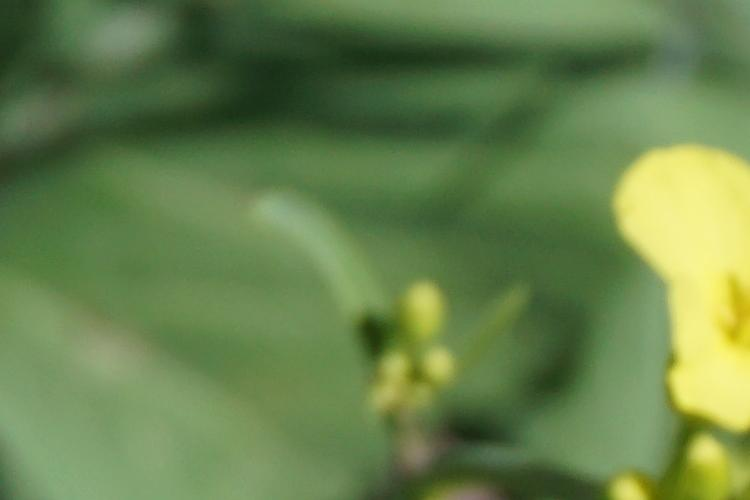yellow: (631, 151, 750, 423)
